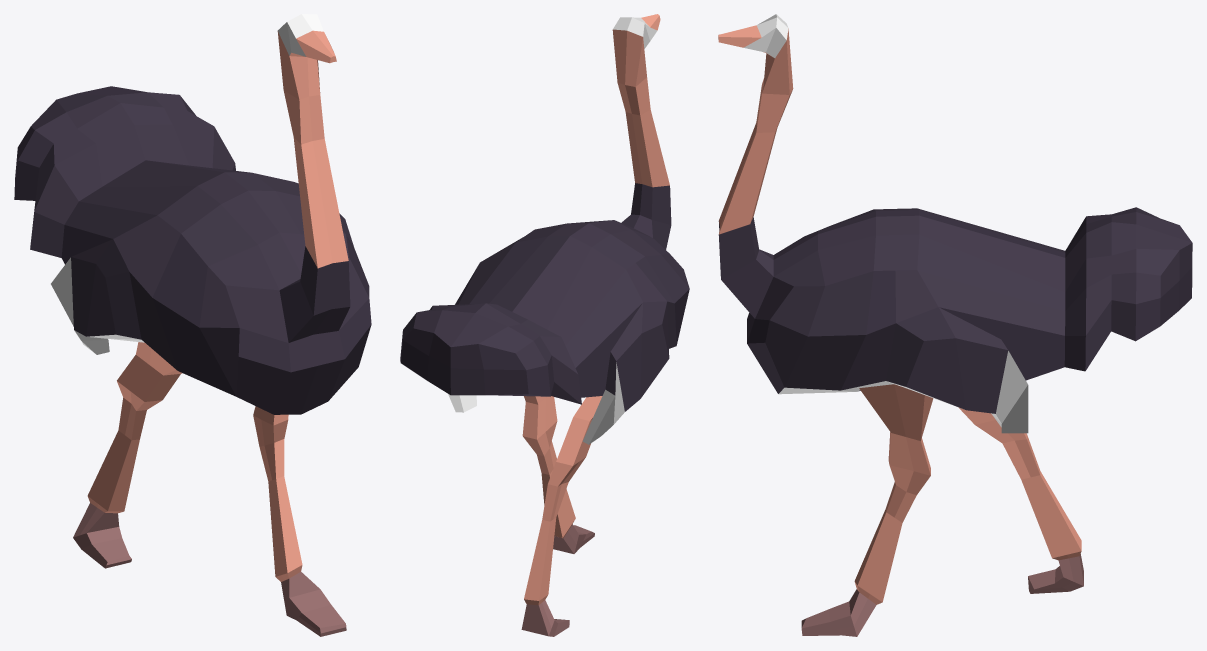
File: Strauß.fbx
3 views of the same model, side by side, from view 1: azimuth 30°, elevation 25°; view 2: azimuth 150°, elevation 25°; view 3: azimuth 270°, elevation 25° (orthographic). The views are drawn at different scales.
Parts seen in each view (by area): view 1: Strauß.002; view 2: Strauß.002; view 3: Strauß.002.
Part boxes in pixels (left/top/right/bottom): Strauß.002: left=14, top=14, right=371, bottom=636; Strauß.002: left=400, top=14, right=689, bottom=636; Strauß.002: left=718, top=14, right=1192, bottom=636.
Bounding box in the file's own units: 1.11 × 2.9 × 2.1.
